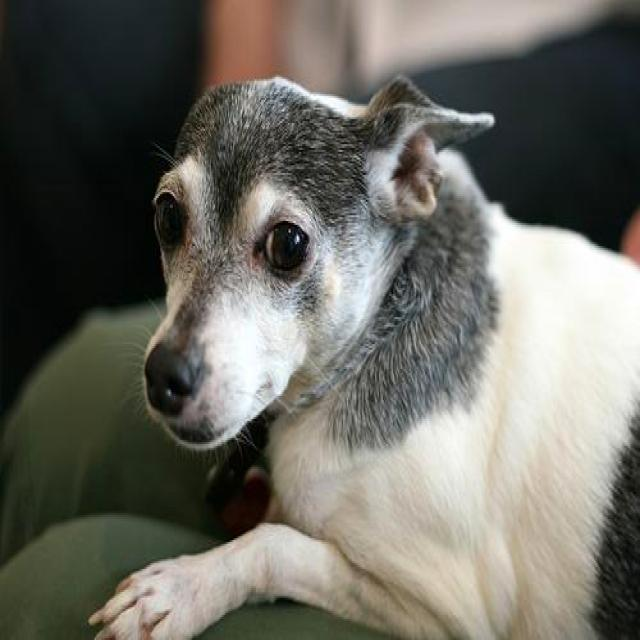toy_terrier: (91, 69, 639, 638)
